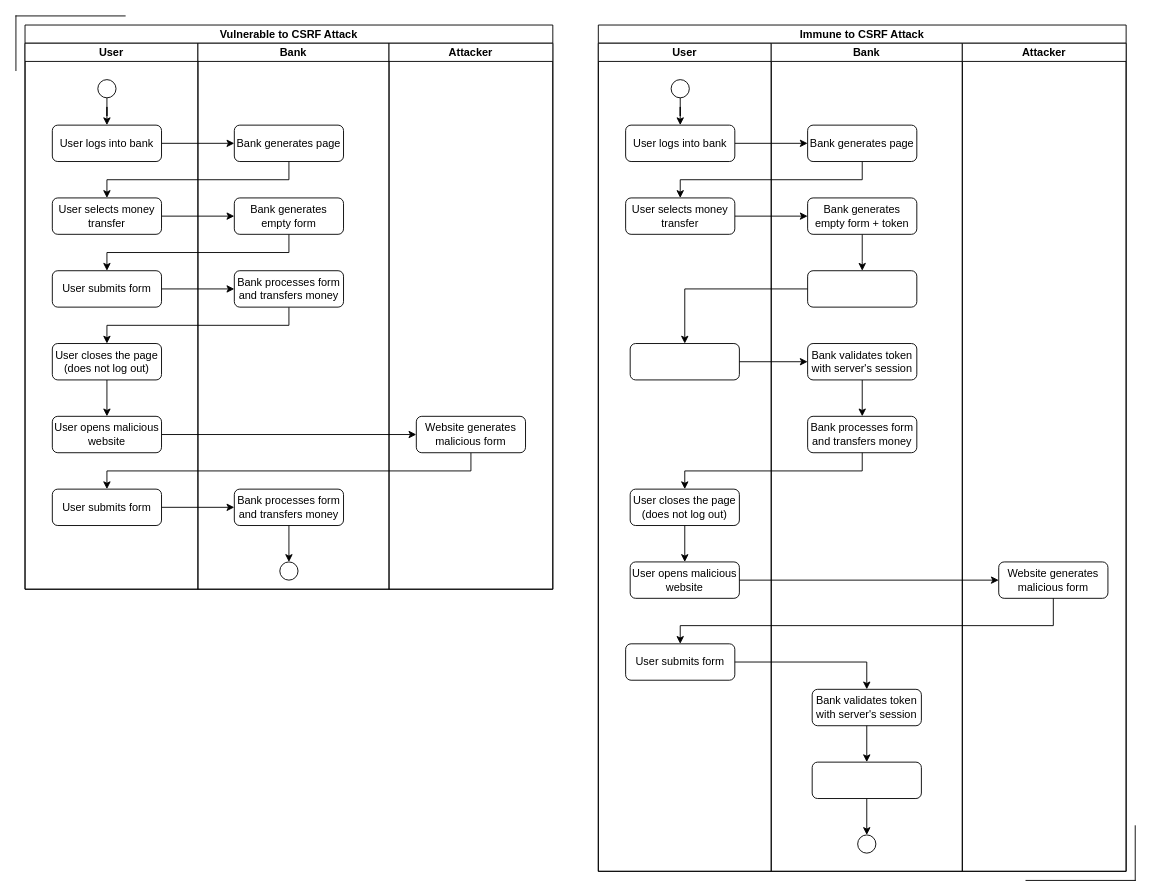
Image size: 1151x896. Some labels were removed from this diagram. The shapes that lost their labels are listed below. From the top down, each one's centre as x and y in pixels, then its label:
At pixel 862 288: "Bank stores token in server's session".
At pixel 684 361: "User submits form + token".
At pixel 866 780: "Token is invalid, transaction is aborted".
